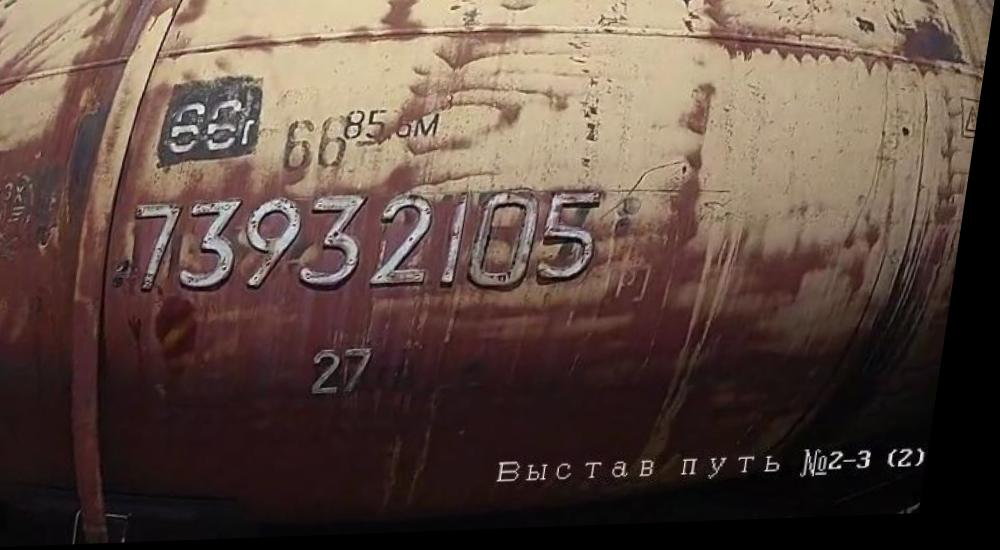Wagon-number: (128, 188, 620, 304)
